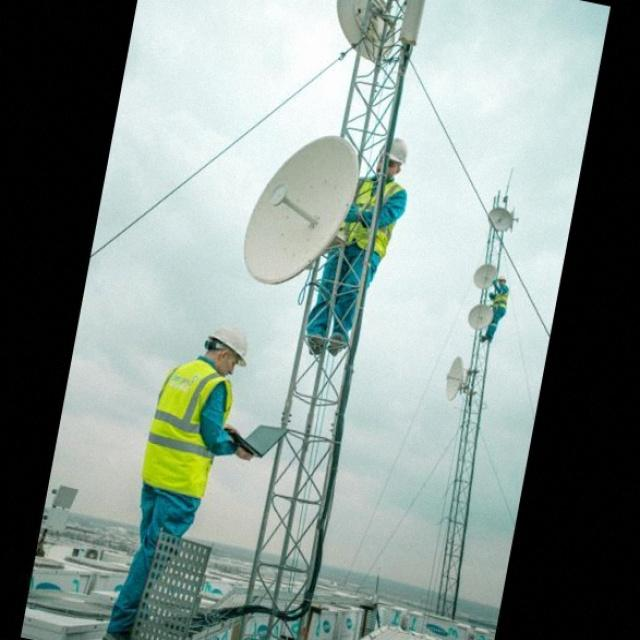Capacete: (209, 326, 247, 365), (389, 138, 407, 163), (498, 275, 505, 281)
Colete: (142, 359, 231, 497), (341, 222, 368, 248), (492, 287, 508, 307)
Pessoa: (104, 327, 252, 639), (305, 156, 383, 354), (480, 275, 508, 341)
